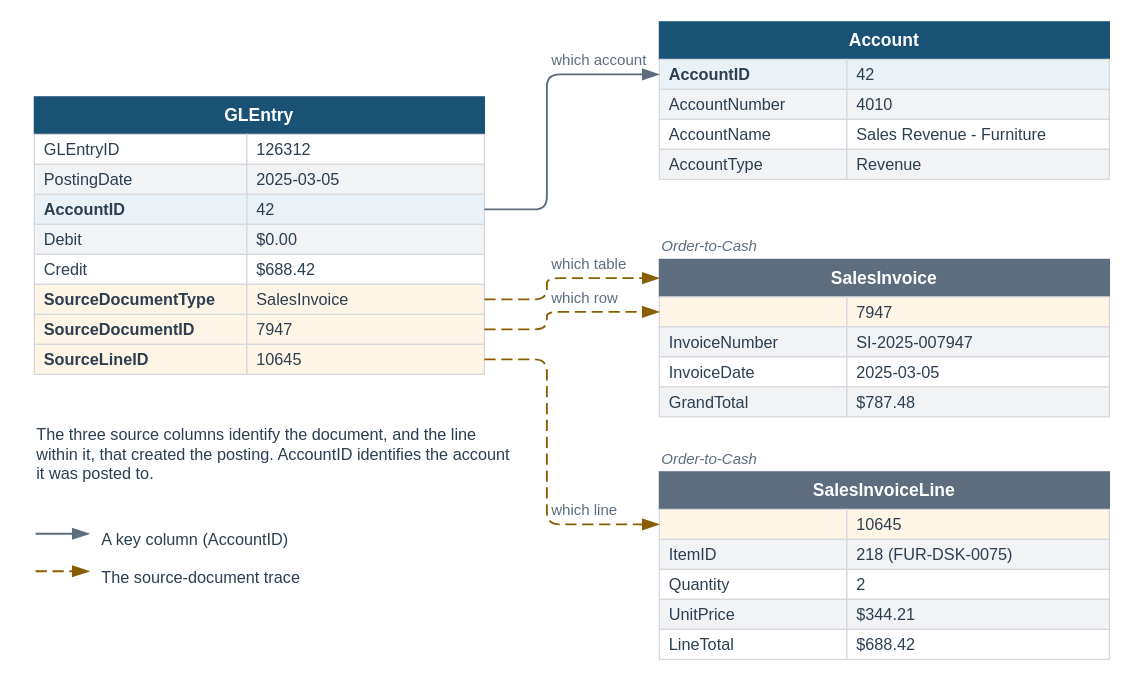
This 1133x684 diagram has some shape labels left out. The box of each missing label's shape, as (x1, y1, x2, y2) in pixels:
SalesInvoiceID: (658, 296, 847, 327)
SalesInvoiceLineID: (658, 508, 847, 539)
